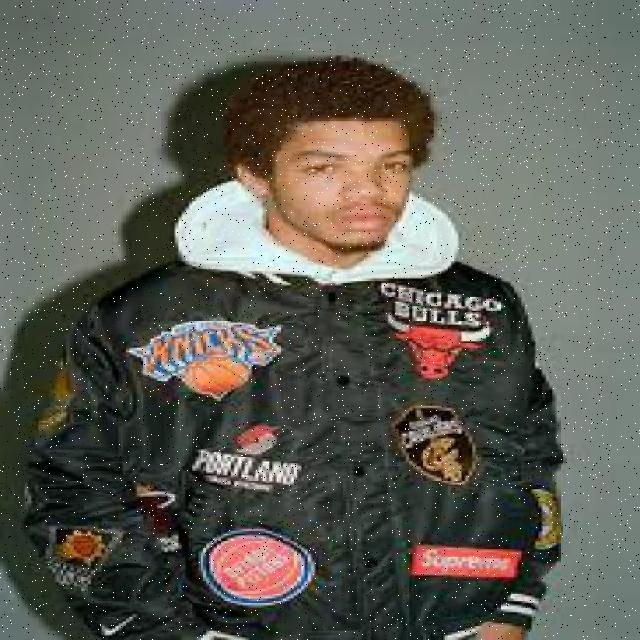Nike: (92, 610, 136, 635)
